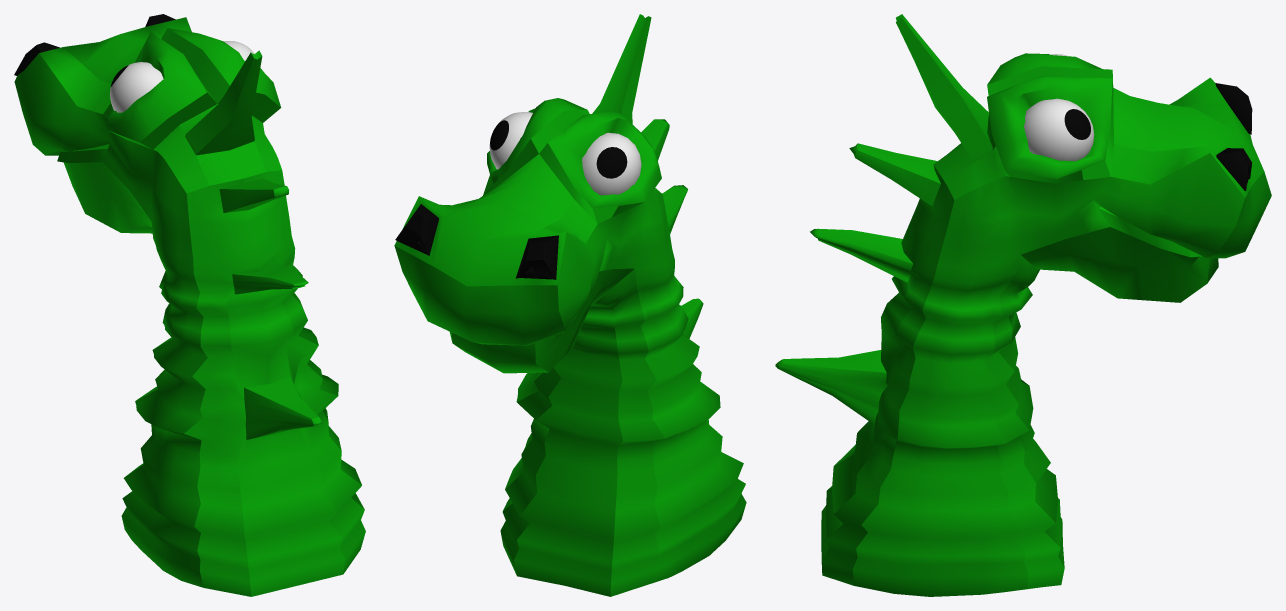
Rendered from FbxDino.fbx.
3 renders of one model, left to right at view 1: azimuth 30°, elevation 25°; view 2: azimuth 150°, elevation 25°; view 3: azimuth 270°, elevation 25°, orthographic. The views are drawn at different scales.
Visible parts, largest first — view 1: pCube117, pSphere5; view 2: pCube117, pSphere5, pSphere6; view 3: pCube117, pSphere6.
Boxes of the visible parts, <box> form: pCube117: <box>14,14,365,596</box>; pSphere5: <box>110,62,163,112</box>; pCube117: <box>394,14,746,596</box>; pSphere5: <box>582,132,641,195</box>; pSphere6: <box>489,112,532,169</box>; pCube117: <box>775,14,1271,596</box>; pSphere6: <box>1024,98,1094,161</box>.
Bounding box in the file's own units: 1.4 × 3.59 × 2.98.
